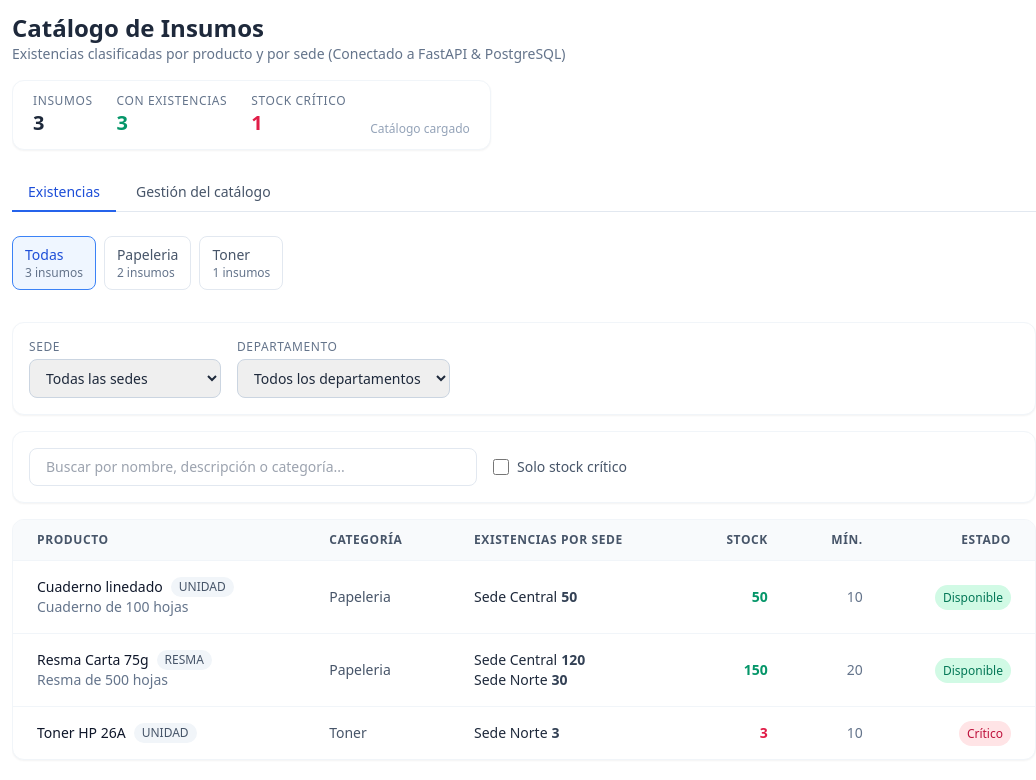
InventarioComponent › sección de gestión del Administrador (AC-11/AC-15) › consume el listado de gestión y muestra activos e inactivos
The width and height of the screenshot is (1036, 780).
Click the tab "Gestión del catálogo" at (203,193), box [120,174,287,212]
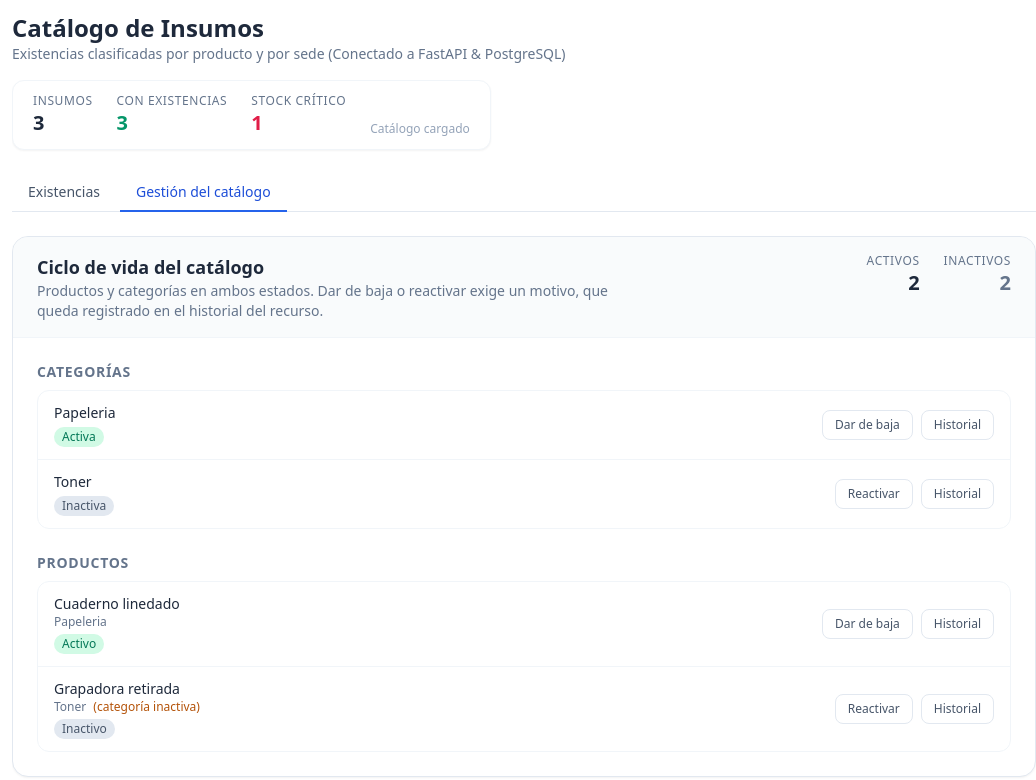
Result: the element named "Ciclo de vida del catálogo" is shown
Result: the element named "Ciclo de vida del catálogo" shows "Ciclo de vida del catálogo" at [37,255,264,279]
Result: the element named "Ciclo de vida del catálogo" shows "Papeleria" at [54,403,116,422]
